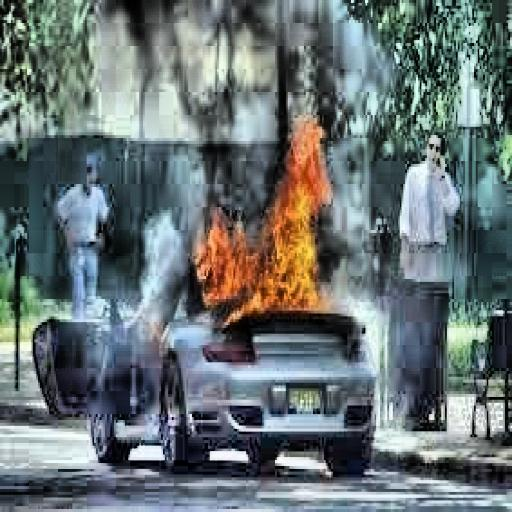fire: (195, 121, 342, 319)
